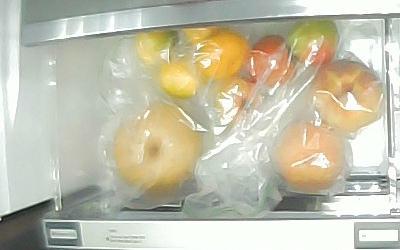peach_vinyl: (310, 59, 383, 133)
pear_vinyl: (110, 100, 201, 194)
tangerine_vinyl: (194, 30, 250, 83), (134, 30, 178, 66), (156, 61, 198, 98)
tomato_vinyl: (213, 75, 262, 127), (286, 19, 339, 66), (249, 35, 295, 88)
